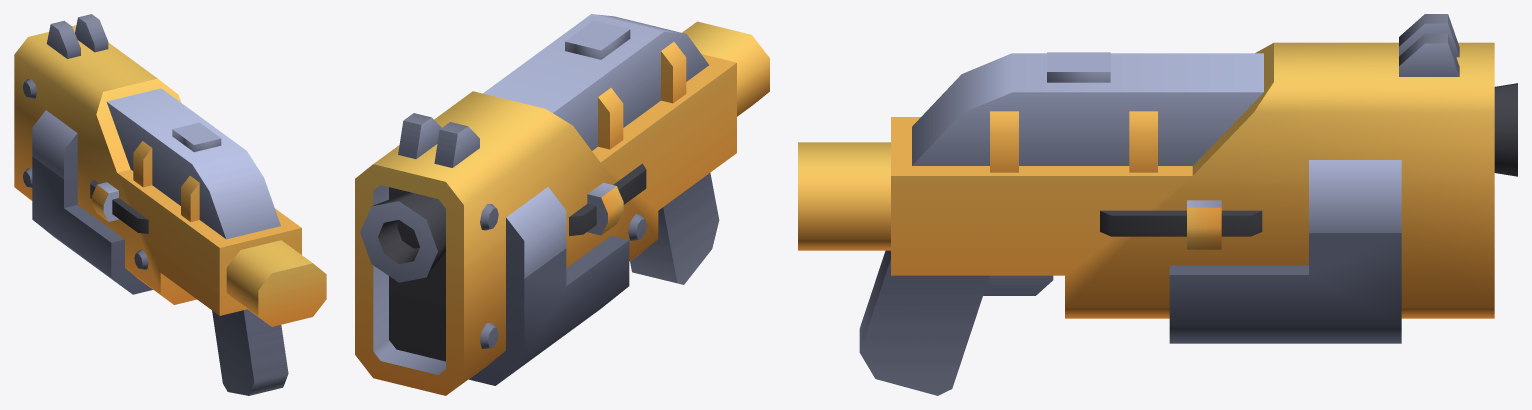
The model's file is blaster-m.glb.
3 renders of one model, left to right at view 1: azimuth 30°, elevation 25°; view 2: azimuth 150°, elevation 25°; view 3: azimuth 270°, elevation 25°, orthographic. The views are drawn at different scales.
Visible parts, largest first — view 1: blaster-m; view 2: blaster-m; view 3: blaster-m.
Part boxes in pixels (left/top/right/bottom): blaster-m: left=14, top=14, right=326, bottom=395; blaster-m: left=355, top=14, right=769, bottom=395; blaster-m: left=798, top=14, right=1517, bottom=395.
Size of the model in its own units: 0.165 by 0.3374 by 0.6201.
1 material, 1 textured.
